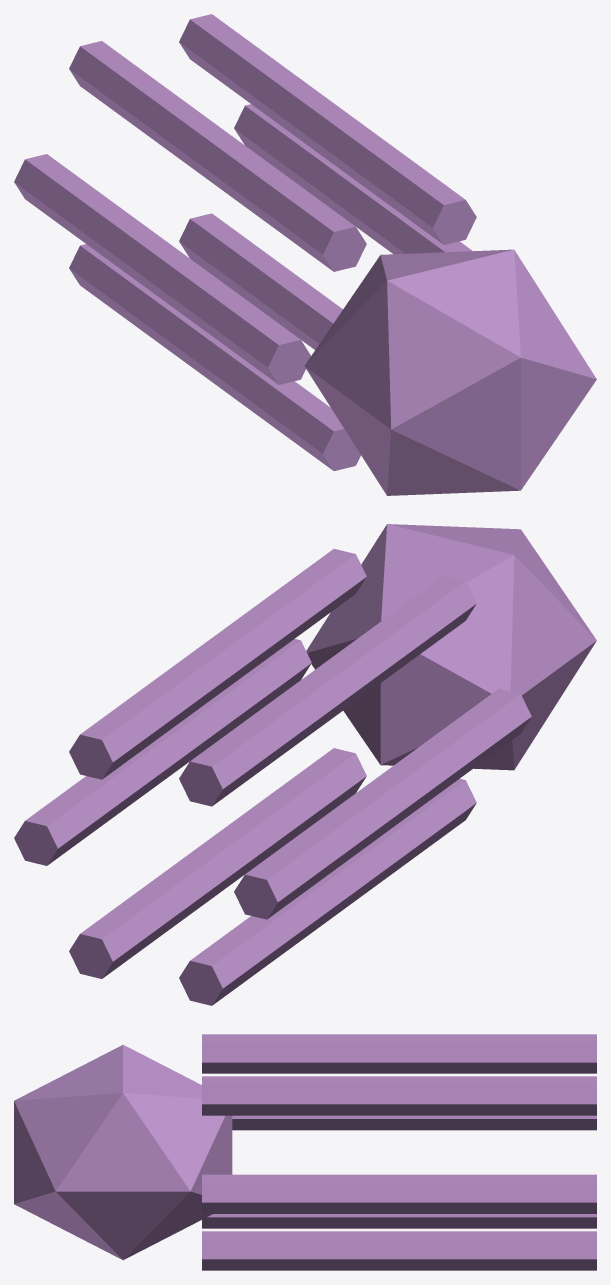
Rendered from octopus.glb.
The picture shows the model from 3 angles, top to bottom: view 1: azimuth 30°, elevation 25°; view 2: azimuth 150°, elevation 25°; view 3: azimuth 270°, elevation 25°; orthographic projection. The views are drawn at different scales.
Parts seen in each view (by area): view 1: world; view 2: world; view 3: world.
Part boxes in pixels (x1=…): world: x1=14, y1=14, x2=596, y2=495; world: x1=14, y1=524, x2=596, y2=1005; world: x1=14, y1=1034, x2=596, y2=1270.
Size of the model in its own units: 0.6 by 0.5196 by 1.48.
